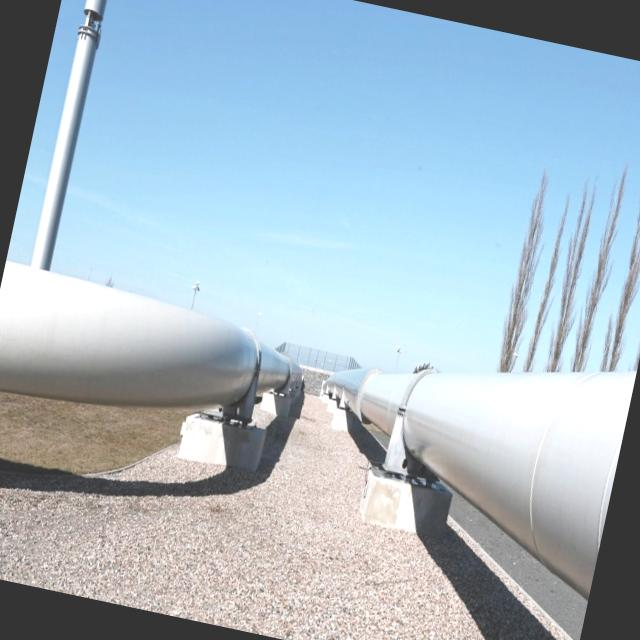gas: (326, 366, 636, 594), (0, 262, 298, 405)
